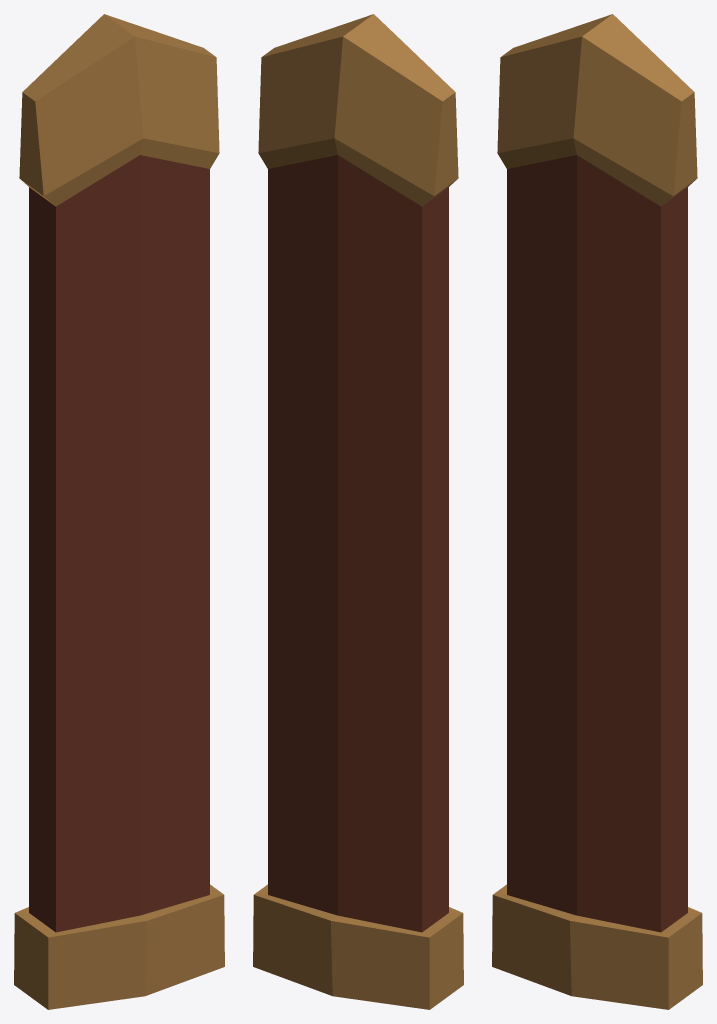
The model's file is SM_Wep_Shortsword_01_Sheath.glb.
3 renders of one model, left to right at view 1: azimuth 30°, elevation 25°; view 2: azimuth 150°, elevation 25°; view 3: azimuth 330°, elevation 25°, orthographic.
Parts seen in each view (by area): view 1: SM_Wep_Shortsword_01_Sheath; view 2: SM_Wep_Shortsword_01_Sheath; view 3: SM_Wep_Shortsword_01_Sheath.
Boxes of the visible parts, x1=… form: SM_Wep_Shortsword_01_Sheath: x1=14, y1=14, x2=224, y2=1009; SM_Wep_Shortsword_01_Sheath: x1=253, y1=14, x2=463, y2=1009; SM_Wep_Shortsword_01_Sheath: x1=492, y1=14, x2=702, y2=1009.
Bounding box in the file's own units: 0.00125 × 0.00629 × 0.000663.
